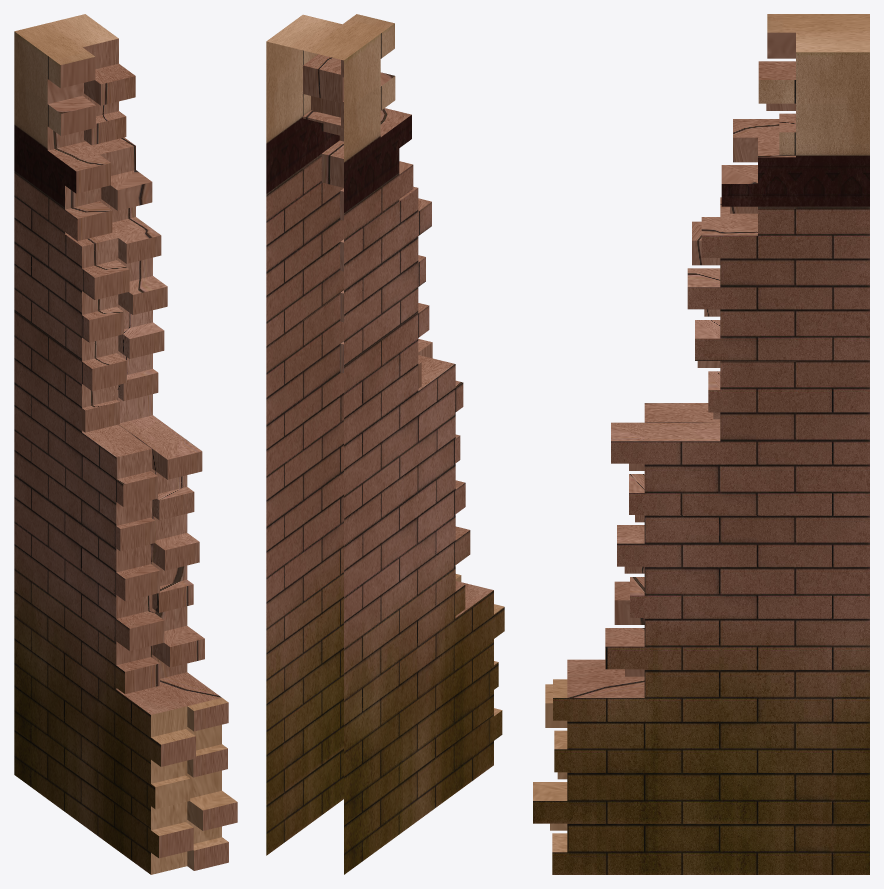
File: Wall_00.fbx
3 renders of one model, left to right at view 1: azimuth 30°, elevation 25°; view 2: azimuth 150°, elevation 25°; view 3: azimuth 270°, elevation 25°, orthographic. The views are drawn at different scales.
Visible parts, largest first — view 1: pasted__pasted__pasted__pCube22; view 2: pasted__pasted__pasted__pCube22; view 3: pasted__pasted__pasted__pCube22.
Boxes of the visible parts, x1,y1,x2,y2 form: pasted__pasted__pasted__pCube22: [14, 14, 237, 874]; pasted__pasted__pasted__pCube22: [266, 14, 504, 874]; pasted__pasted__pasted__pCube22: [533, 14, 869, 874].
Size of the model in its own units: 0.3 by 3 by 1.11.
